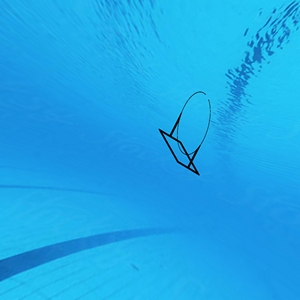circle: (157, 87, 213, 178)
